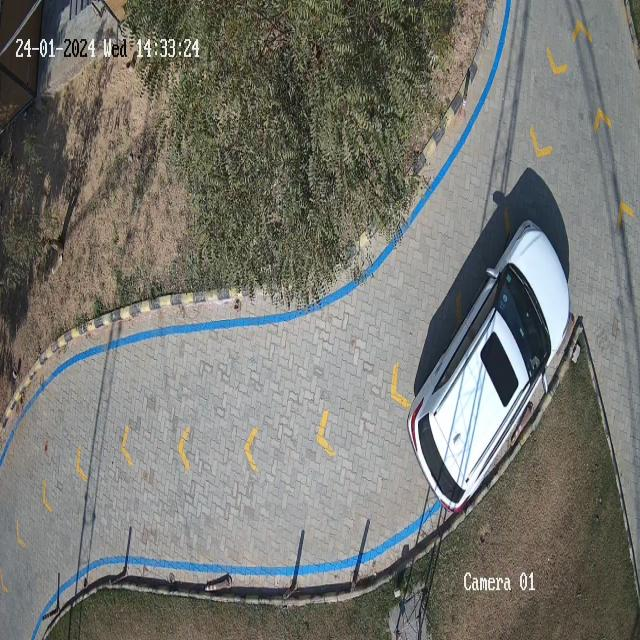car: (406, 220, 574, 519)
